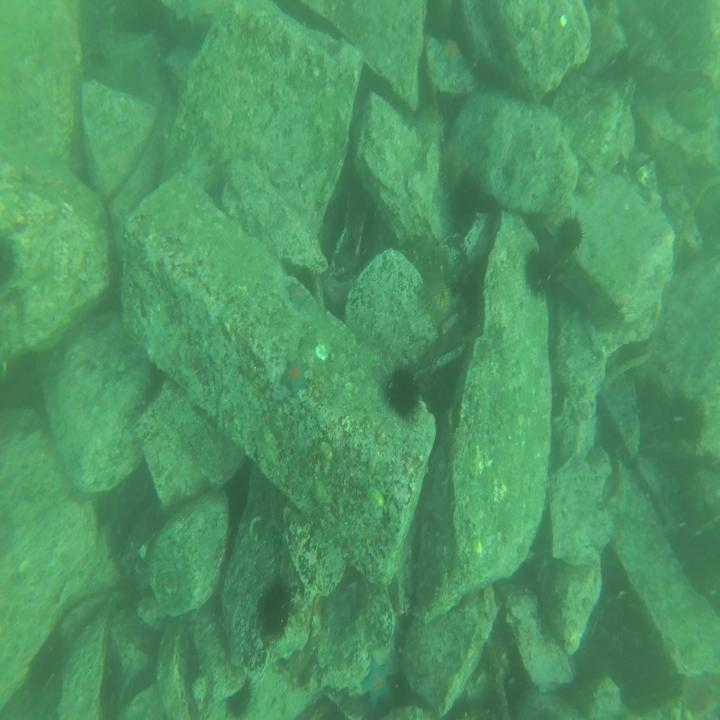echinus: (255, 578, 294, 637), (386, 365, 420, 418), (448, 174, 479, 232), (678, 394, 707, 445), (527, 247, 554, 294), (557, 215, 585, 255), (427, 278, 452, 320), (0, 233, 17, 289)
starfish: (434, 36, 464, 77), (281, 357, 308, 402), (286, 280, 310, 314)
